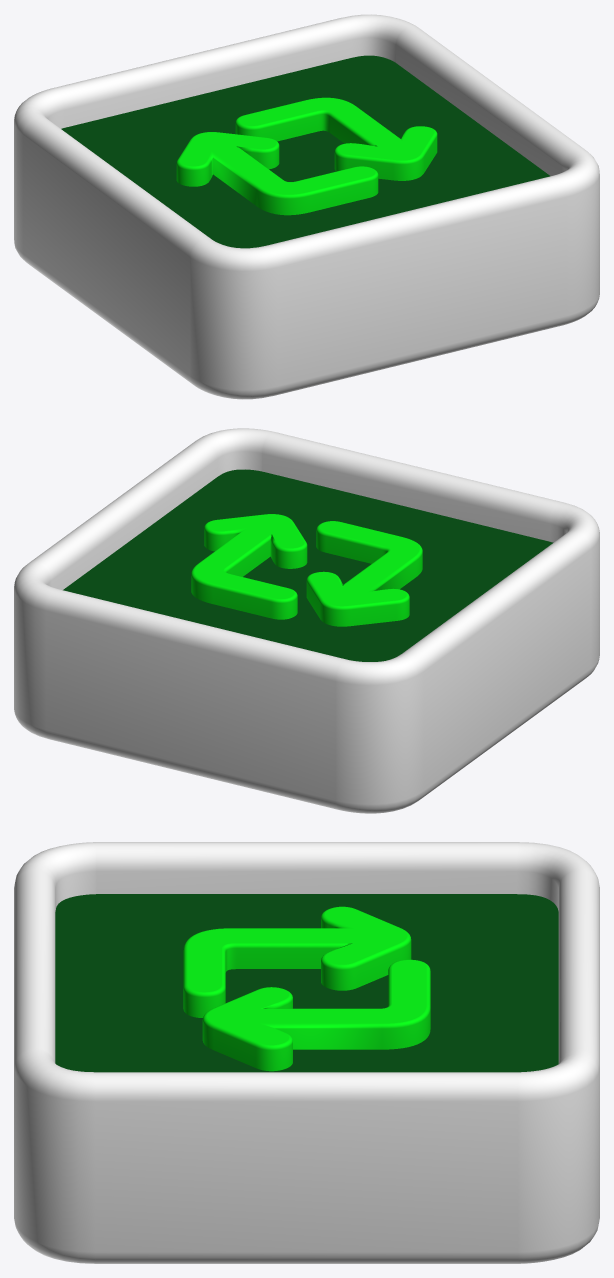
File: Bonus-Rotate.dae
The picture shows the model from 3 angles, top to bottom: view 1: azimuth 30°, elevation 25°; view 2: azimuth 150°, elevation 25°; view 3: azimuth 270°, elevation 25°; orthographic projection. The views are drawn at different scales.
Visible parts, largest first — view 1: Bonus; view 2: Bonus; view 3: Bonus.
Part boxes in pixels (x1,y1,x2,y2): Bonus: (14, 14, 599, 399); Bonus: (14, 428, 599, 813); Bonus: (14, 842, 599, 1263).
Bounding box in the file's own units: 0.1517 × 0.0537 × 0.1517.
